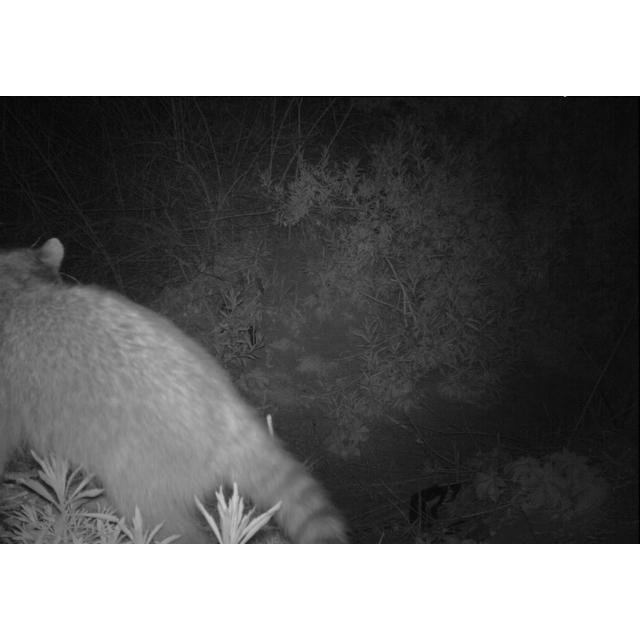animals: (0, 235, 348, 545)
